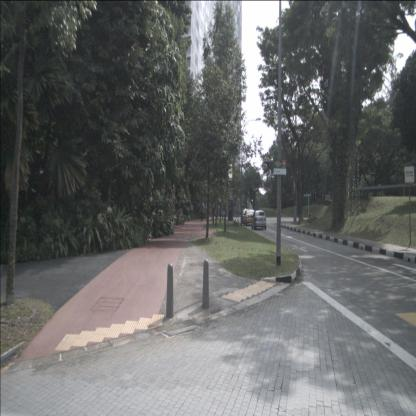human-pedestrian-adult: (200, 201, 204, 222)
vehicle-car: (251, 210, 267, 230), (242, 209, 256, 226), (241, 209, 251, 225)
